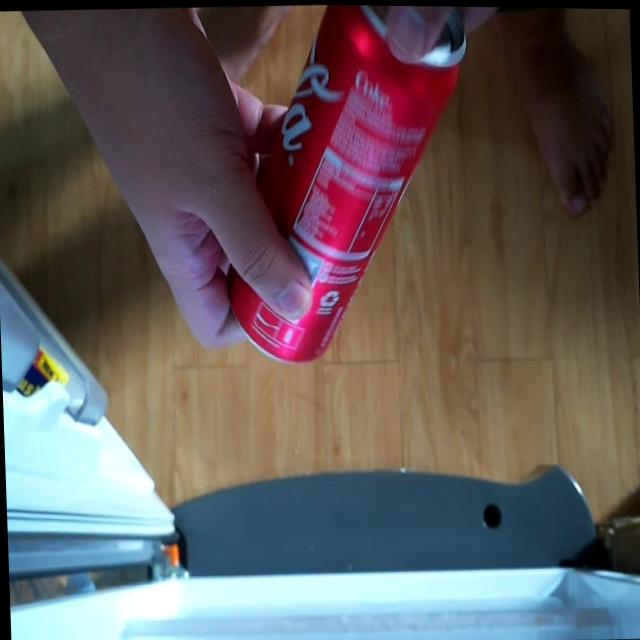coke: (209, 2, 483, 370)
